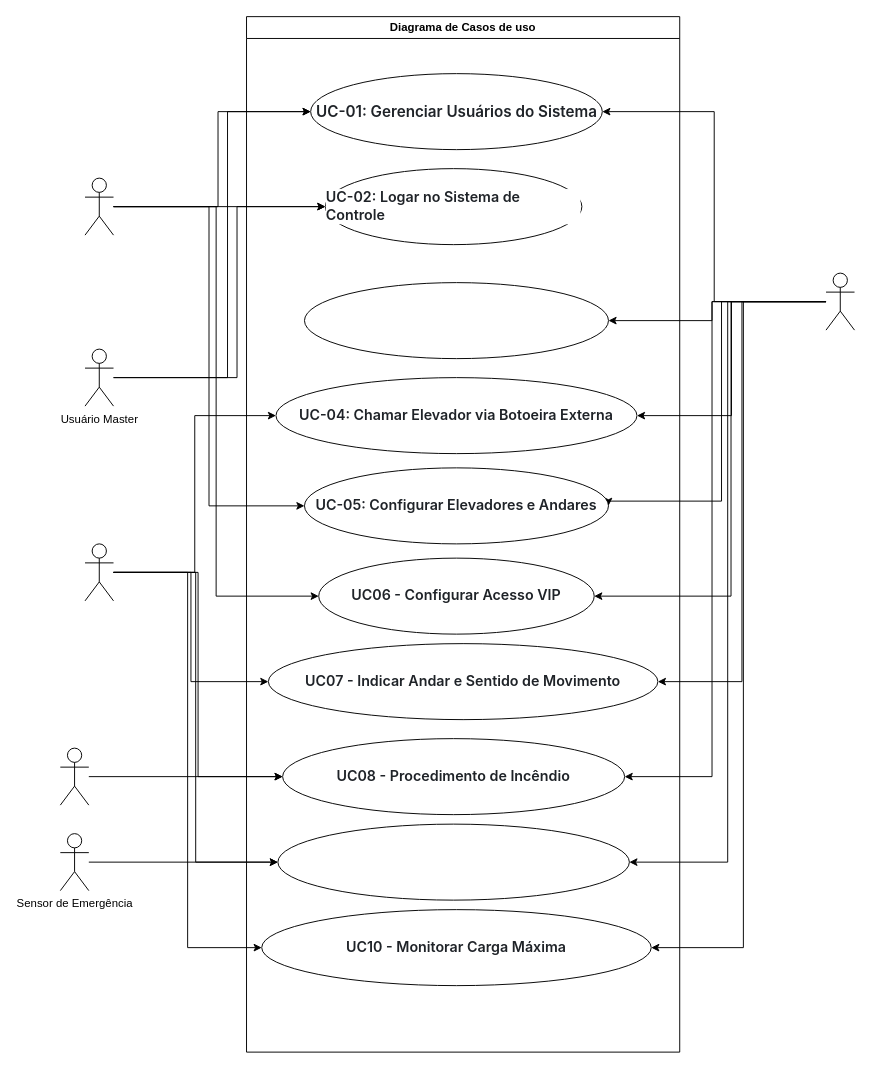
The diagram is 877 pixels wide and 1069 high, and some of its shapes have lost their labels. The shapes that lost their labels are listed below. From the top down, each one's box as (x1, y1, x2, y2) in pixels, then its label:
(84, 177, 114, 235): Administrador
(304, 282, 608, 359): UC-03: Registrar Ações de Comando
(825, 272, 855, 330): Sistema
(84, 543, 114, 601): Usuário
(59, 747, 89, 805): Sensor de Incendio
(277, 823, 629, 900): UC09 - Procedimento de Emergência
